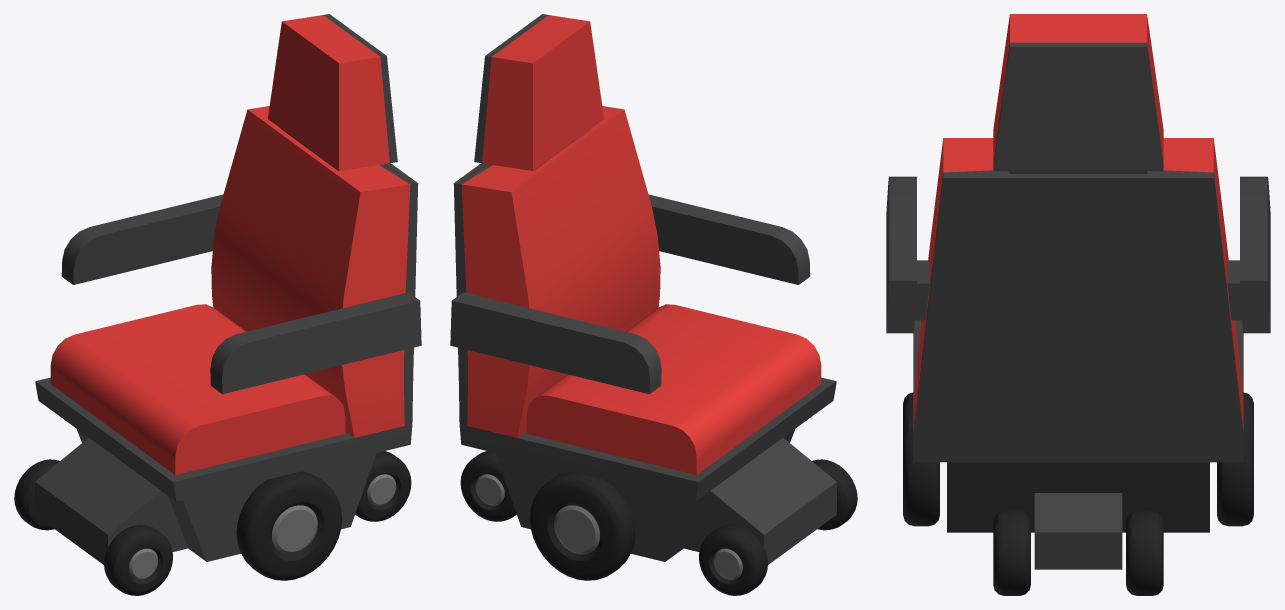
Rendered from motorized_wheelchair.glb.
3 views of the same model, side by side, from view 1: azimuth 30°, elevation 25°; view 2: azimuth 150°, elevation 25°; view 3: azimuth 270°, elevation 25° (orthographic). The views are drawn at different scales.
Parts seen in each view (by area): view 1: Cube.738; view 2: Cube.738; view 3: Cube.738.
Part boxes in pixels (left/top/right/bottom): Cube.738: left=14, top=14, right=421, bottom=595; Cube.738: left=450, top=14, right=857, bottom=595; Cube.738: left=886, top=14, right=1270, bottom=595.
Bounding box in the file's own units: 1.59 × 2.24 × 1.4.
Materials: 1 (1 with a texture image).
